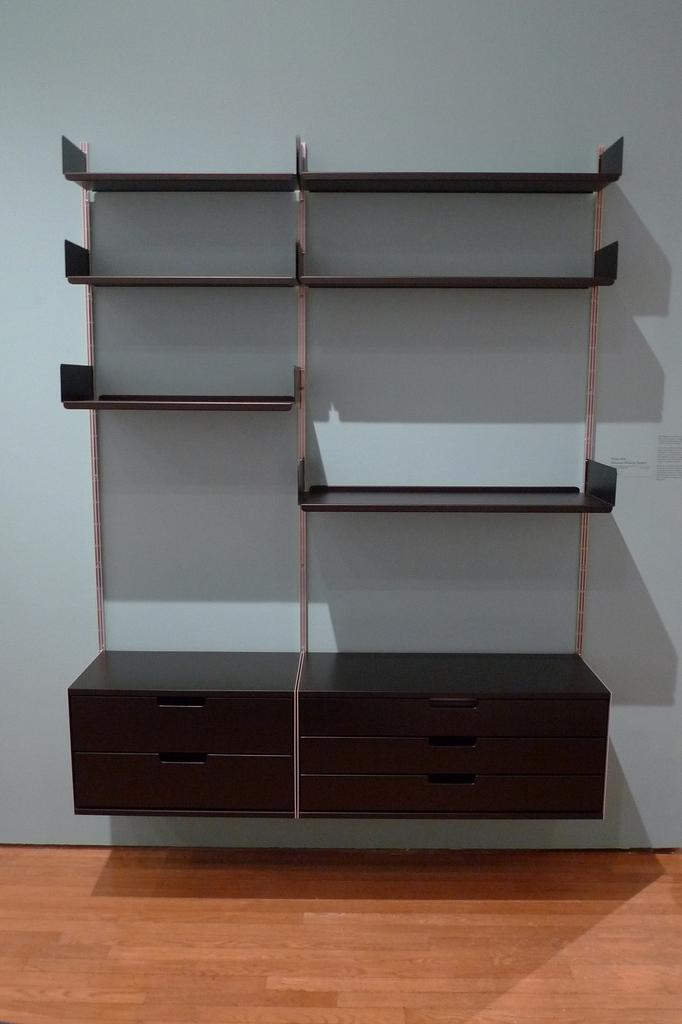cabinet_door: (303, 764, 605, 824), (301, 684, 609, 735), (72, 698, 293, 761), (77, 756, 294, 820), (300, 736, 607, 780)
handle: (160, 741, 216, 782), (427, 717, 479, 751), (428, 766, 475, 794), (434, 690, 479, 708)
